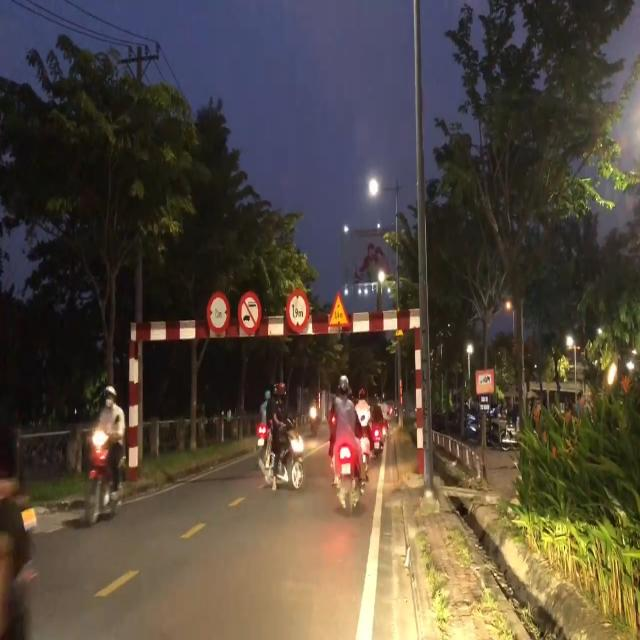Bien bao cam xe oto khach va xe oto tai: (236, 290, 262, 337)
Bien bao chieu cao tinh khong thuc te: (326, 288, 351, 331)
Bien bao han che chieu cao: (285, 288, 312, 335)
